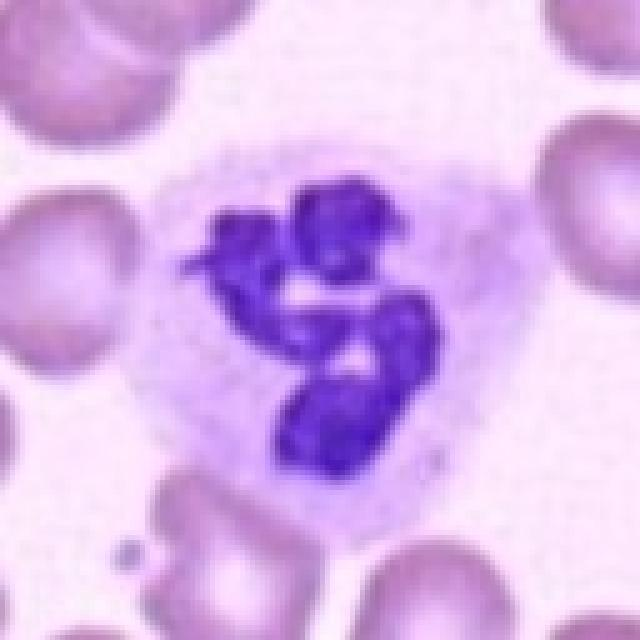neutro: (139, 108, 589, 587)
